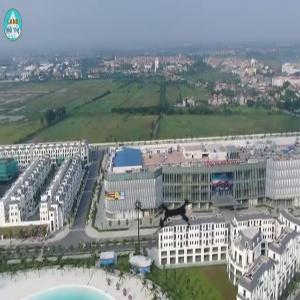drone: (134, 175, 217, 258)
